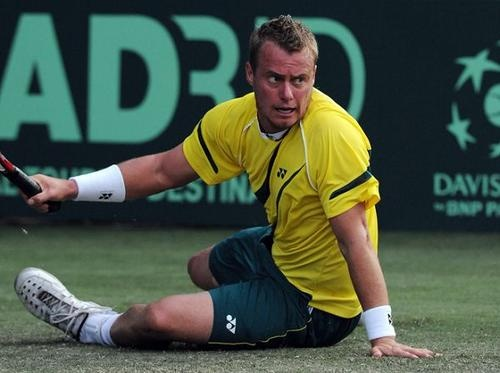falling: (13, 1, 434, 368)
